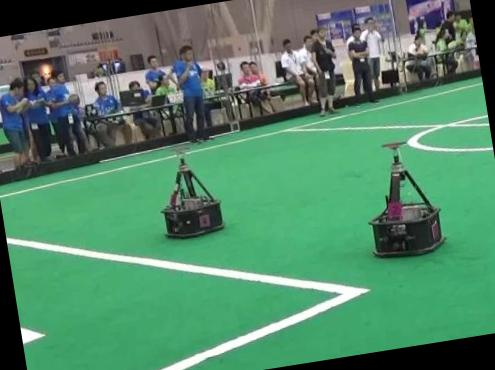person: (171, 45, 208, 141), (311, 27, 337, 116)
robot: (368, 155, 442, 256), (161, 158, 222, 237)
